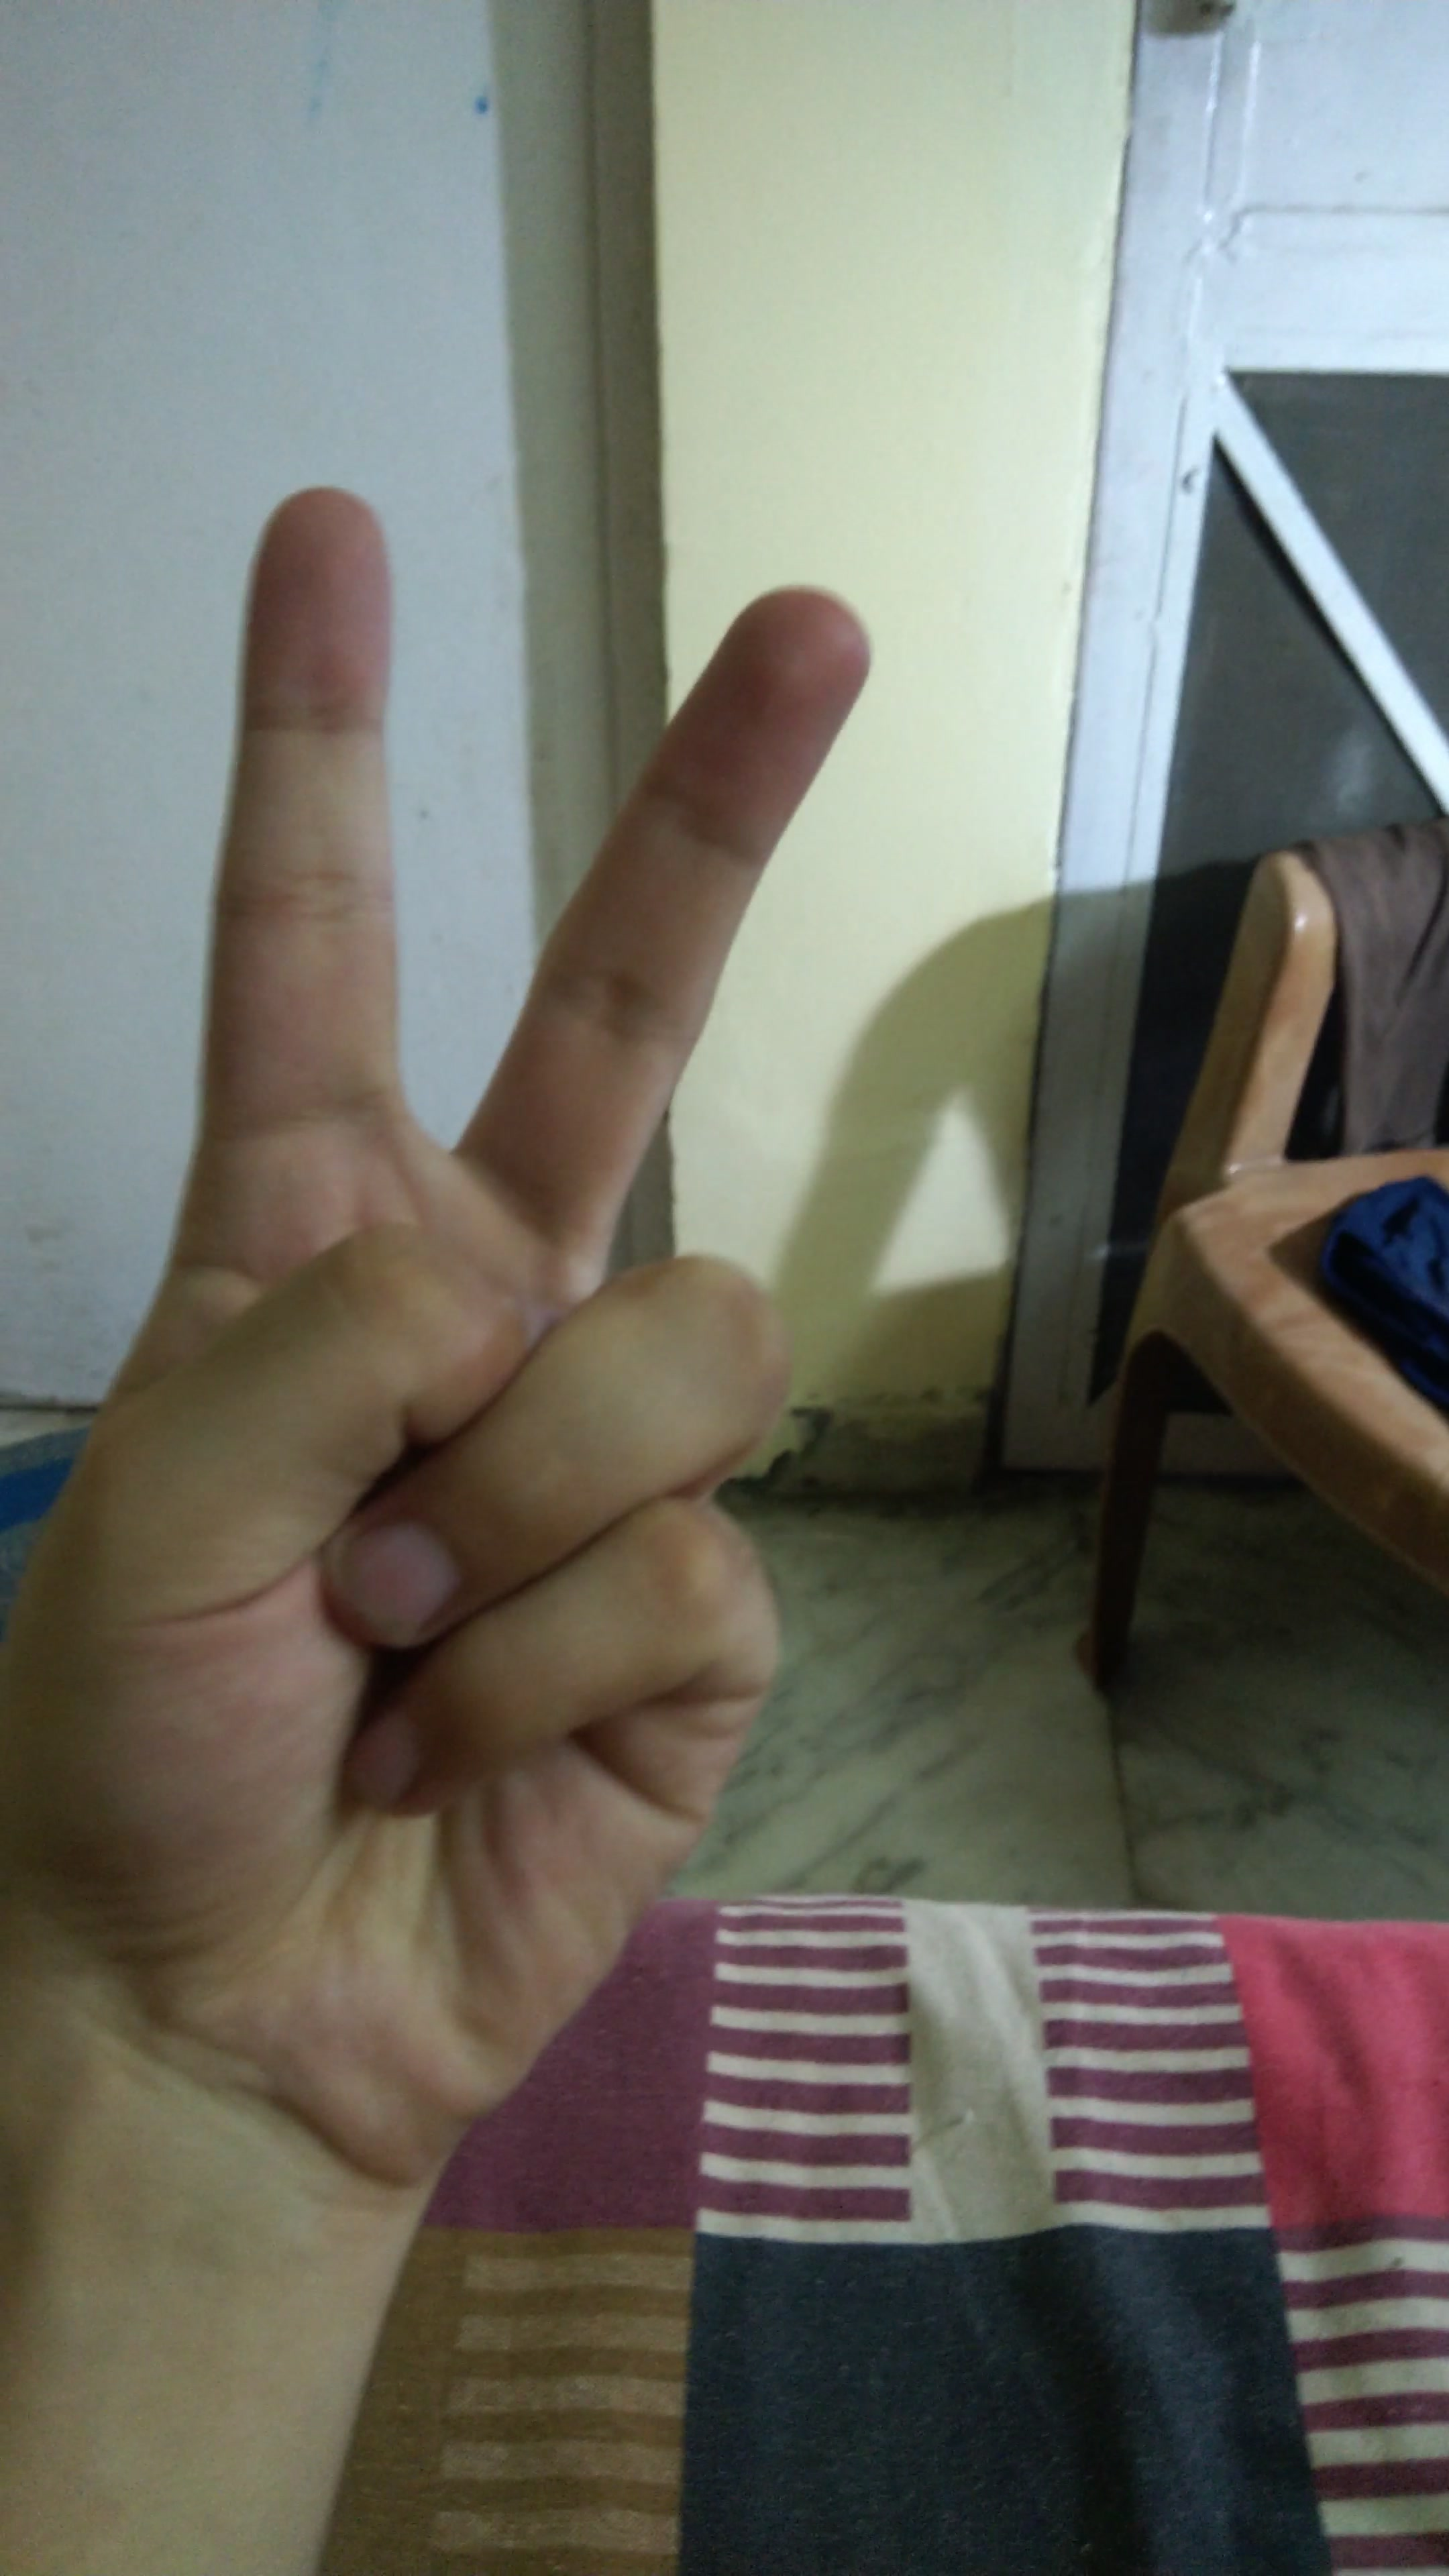hand: (44, 432, 941, 2166)
